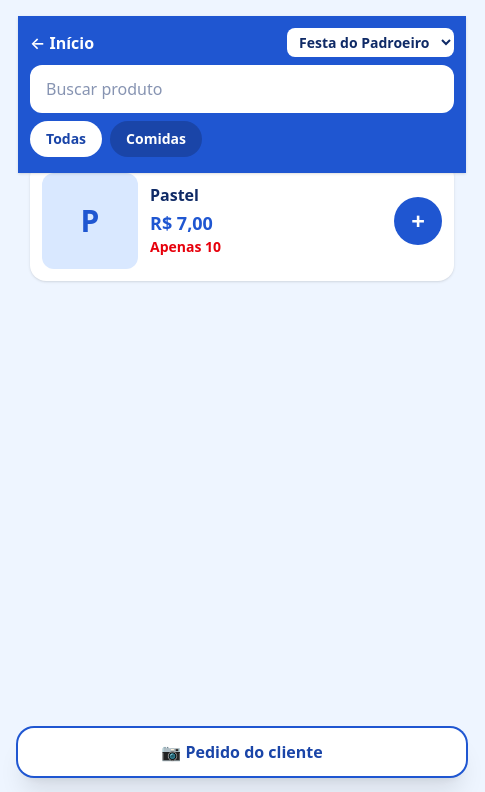
PDV com dois eventos abertos › trocar de evento com sacola pede confirmação e descarta a sacola
Click the text "Pastel".
click(174, 195)  # box [150,184,199,206]
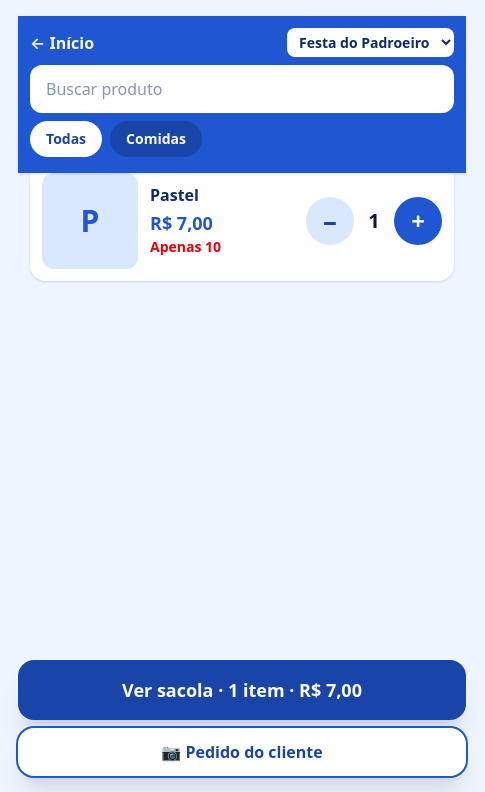
Now the button "Ver sacola · 1 item · R$ 7,00" is shown, box [18,660,466,720]
Select "Noite do Pastel" in the dropdown named "Evento" at (370, 42), box [287,28,454,57]
Now the button "Ver sacola · 1 item · R$ 7,00" is shown, box [18,660,466,720]
Select "Noite do Pastel" in the dropdown named "Evento" at (370, 42), box [287,28,454,57]
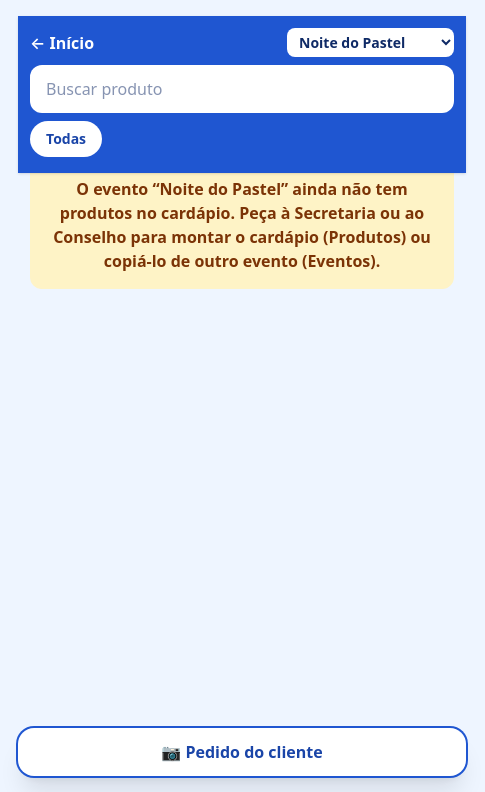
Now the button "Ver sacola" is gone
